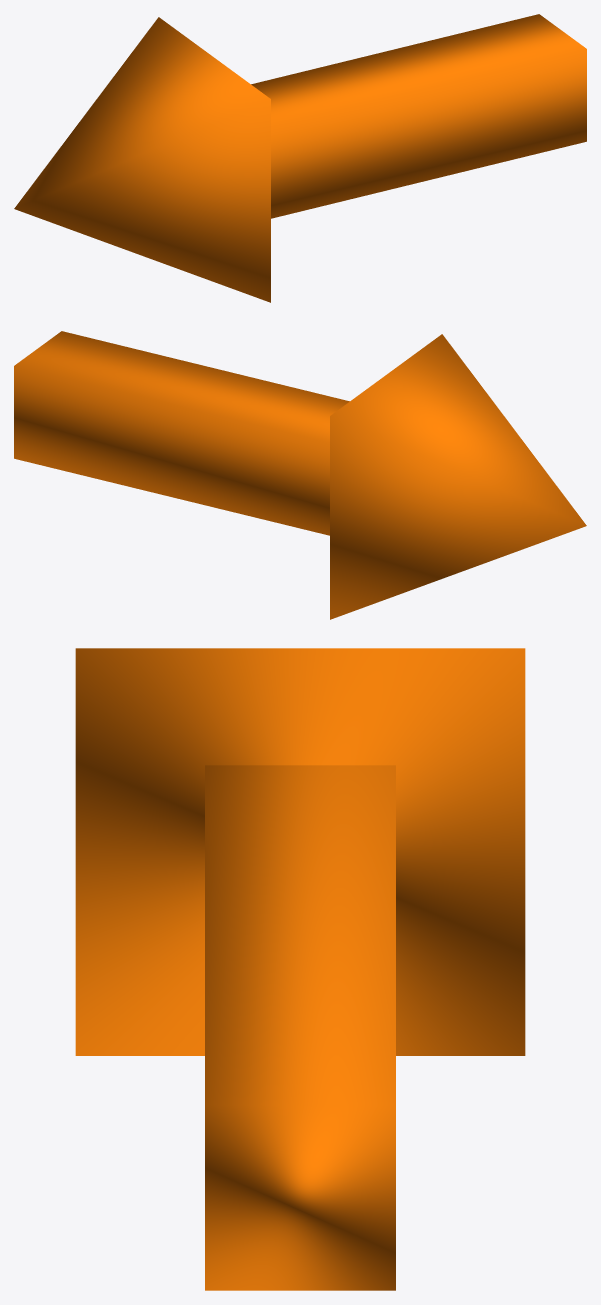
The model's file is arrowFront.glb.
3 renders of one model, top to bottom at view 1: azimuth 30°, elevation 25°; view 2: azimuth 150°, elevation 25°; view 3: azimuth 270°, elevation 25°, orthographic. The views are drawn at different scales.
Parts seen in each view (by area): view 1: Cube; view 2: Cube; view 3: Cube.
Boxes of the visible parts, x1,y1,x2,y2 form: Cube: [14, 14, 586, 302]; Cube: [14, 331, 586, 619]; Cube: [75, 648, 525, 1290].
Size of the model in its own units: 4.03 by 1.43 by 1.43.
